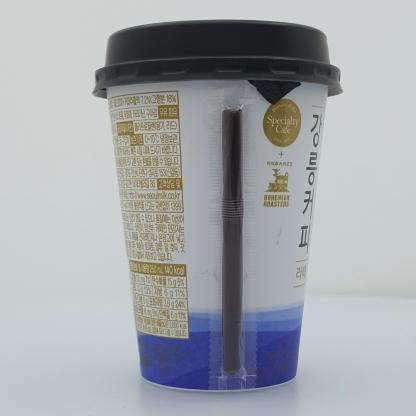----------250ML: (92, 19, 343, 392)
